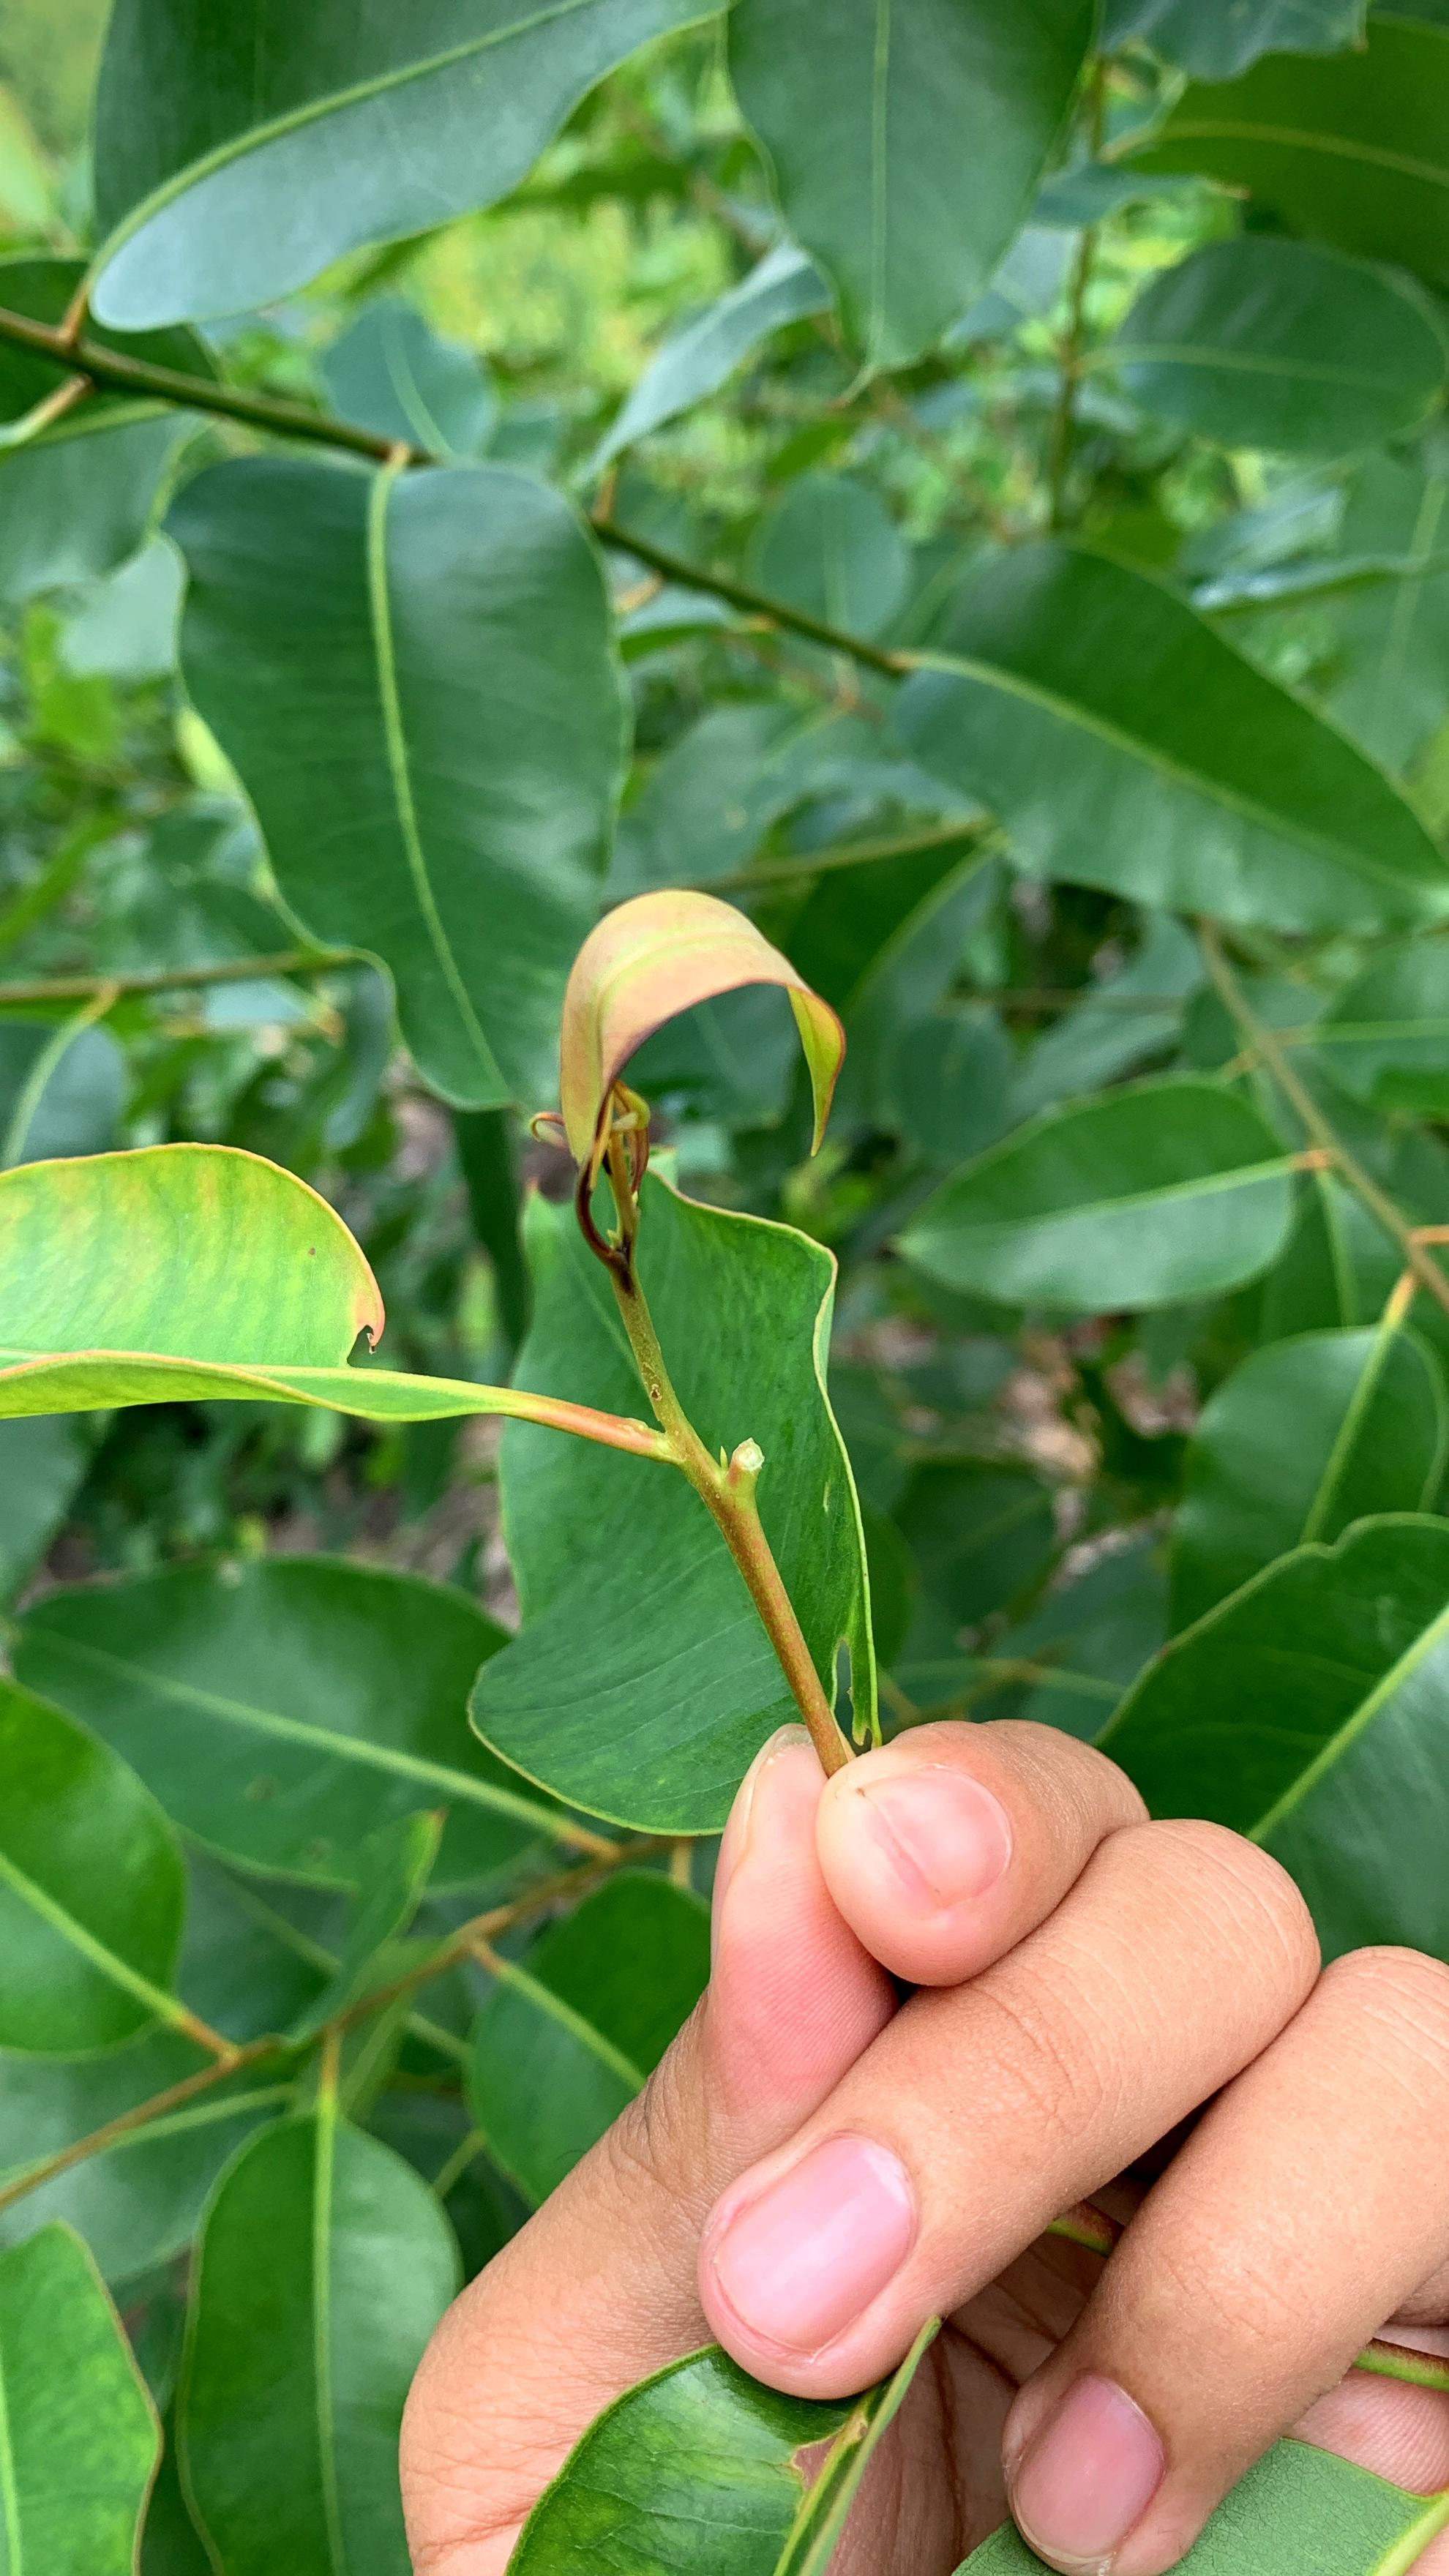Helopeltis-Withered Sprout: (542, 886, 849, 1197)
